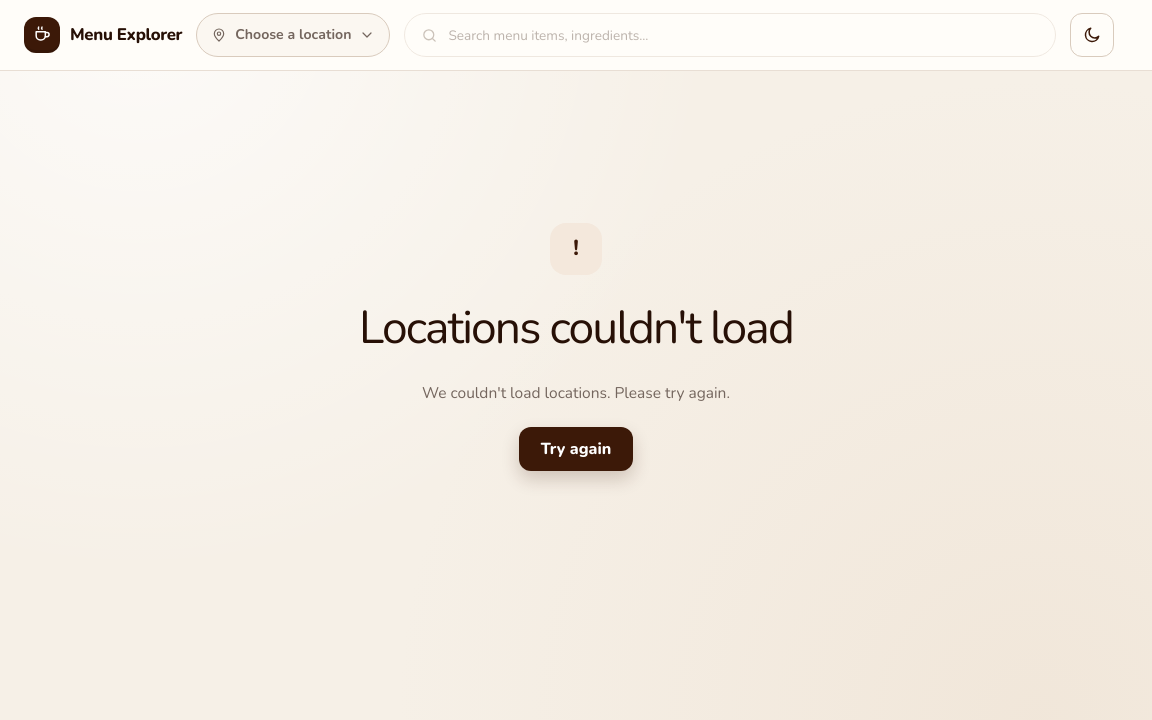
MenuExplorerShell › shows a retryable error and recovers on the next request
Expected: the heading "Locations couldn't load" is shown, [359, 293, 793, 362]
Expected: the message shows "Locations couldn't load", [359, 296, 793, 359]
What coordinates should you click on to do the following:
click the button "Try again"
I would click on:
 (576, 449)
Its box is [519, 427, 633, 471].
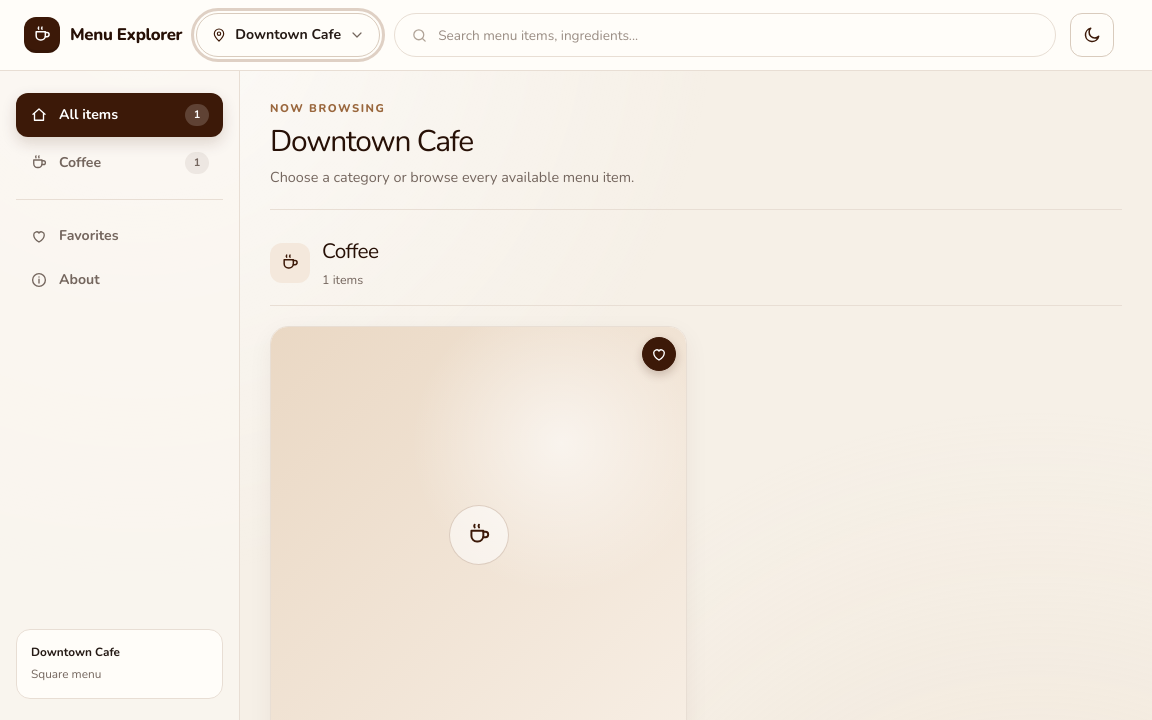
Expected: the heading "Downtown Cafe" is shown, [270, 121, 473, 162]
